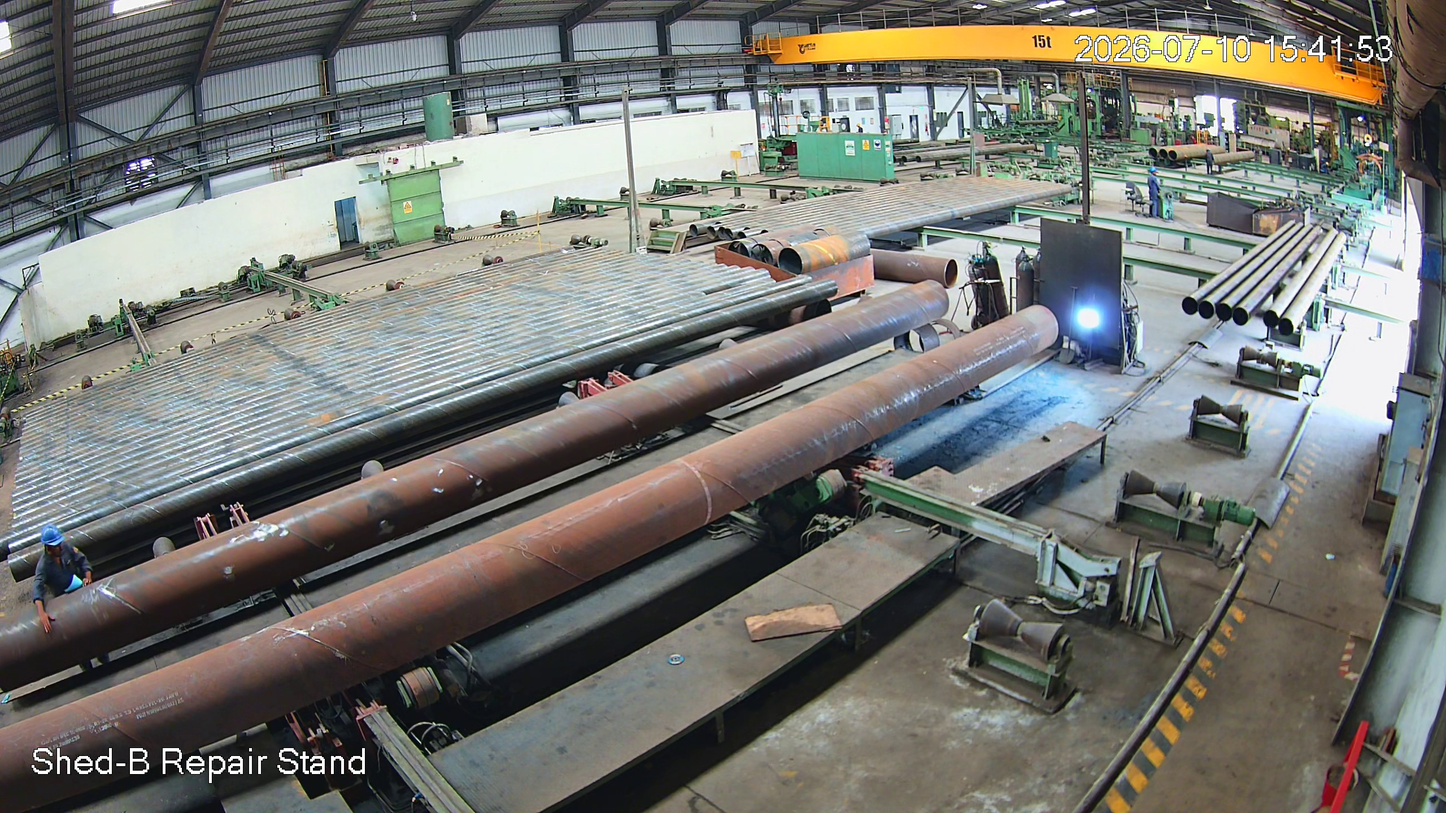Helmet: (38, 521, 91, 571)
Person: (30, 529, 119, 694)
